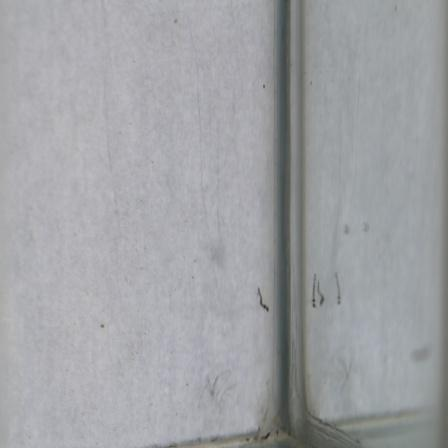Jentik-Nyamuk: (253, 282, 273, 317)
